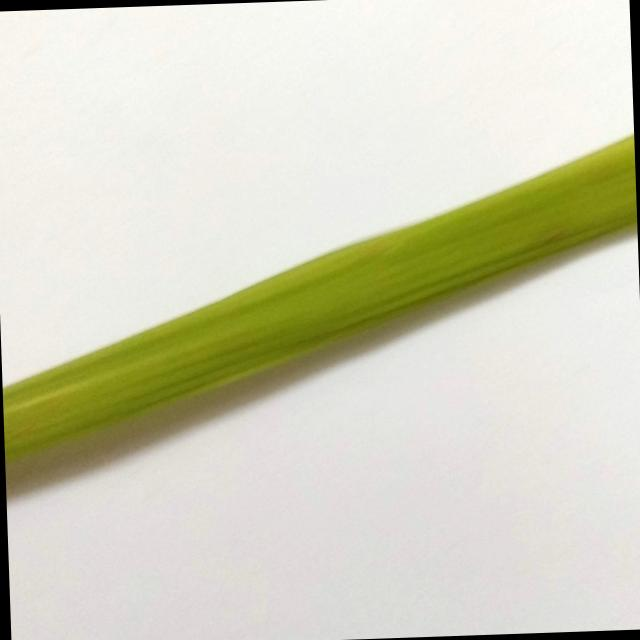Rice_Healthy: (2, 135, 637, 463)
